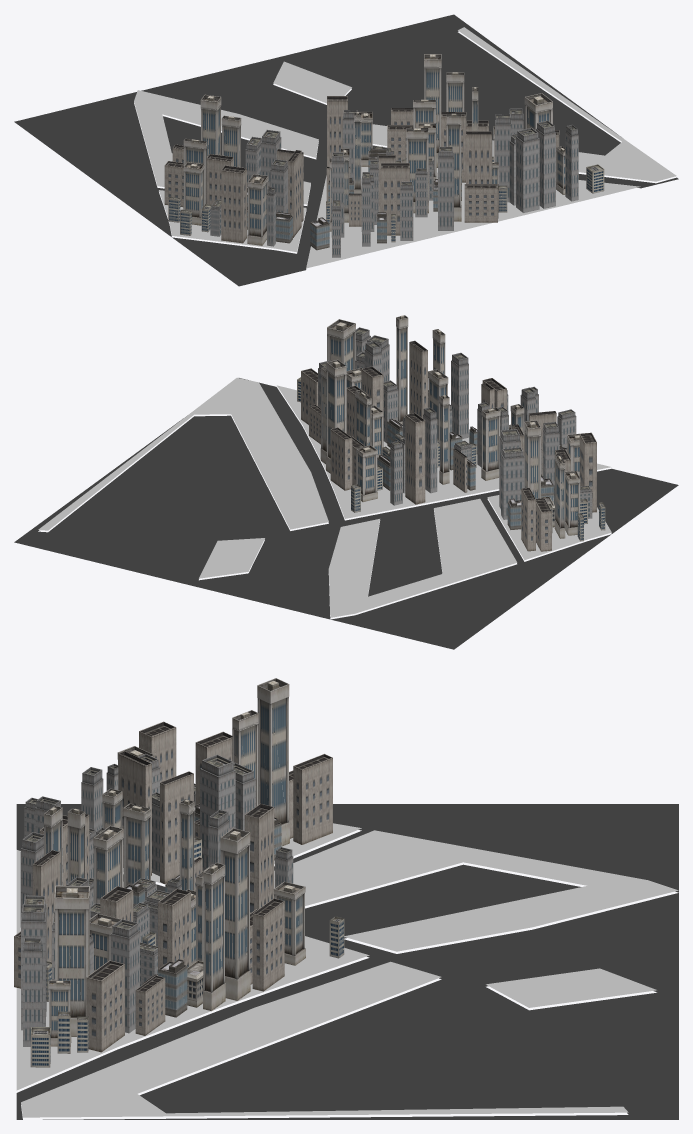
File: city.gltf
3 renders of one model, top to bottom at view 1: azimuth 30°, elevation 25°; view 2: azimuth 150°, elevation 25°; view 3: azimuth 270°, elevation 25°, orthographic. The views are drawn at different scales.
Visible parts, largest first — view 1: city; view 2: city; view 3: city.
Boxes of the visible parts, <box> form: city: <box>14,14,678,286</box>; city: <box>14,315,678,649</box>; city: <box>14,678,678,1119</box>.
Bounding box in the file's own units: 42.15 × 11.09 × 37.48.
Materials: 8 (6 with a texture image).
